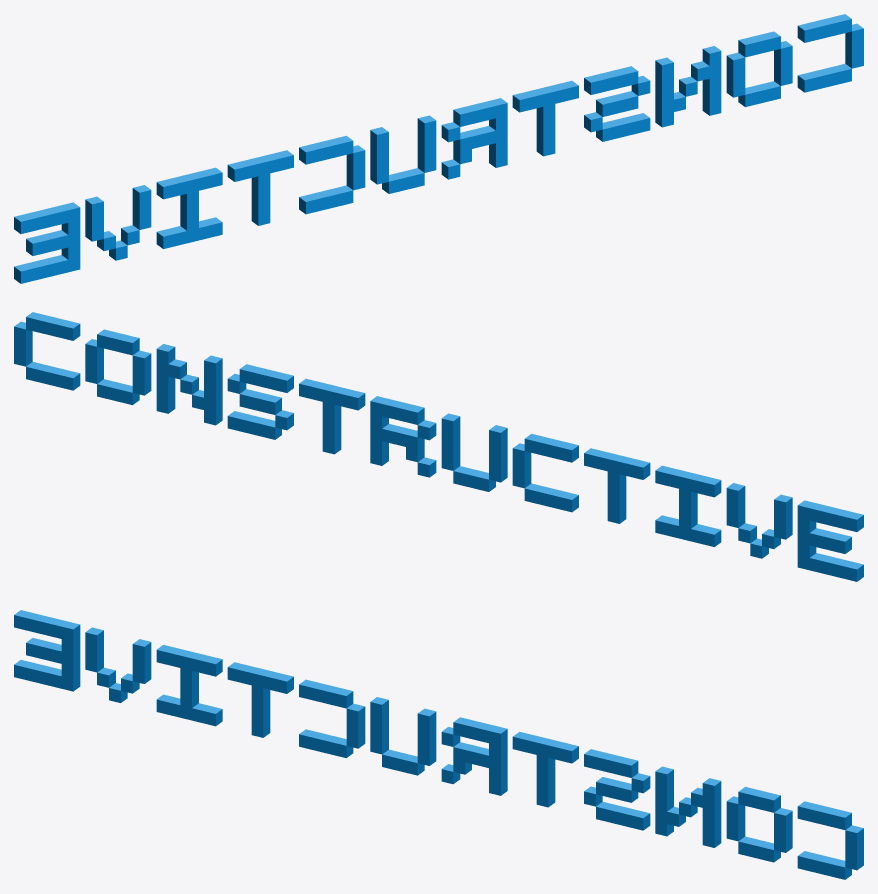
File: constructive-wordmark.obj
3 views of the same model, one above another, from view 1: azimuth 30°, elevation 25°; view 2: azimuth 150°, elevation 25°; view 3: azimuth 330°, elevation 25° (orthographic).
Parts seen in each view (by area): view 1: constructive-wordmark; view 2: constructive-wordmark; view 3: constructive-wordmark.
Boxes of the visible parts, left/top/right/bottom form: constructive-wordmark: left=14, top=14, right=863, bottom=283; constructive-wordmark: left=14, top=312, right=863, bottom=581; constructive-wordmark: left=14, top=610, right=863, bottom=879.
Size of the model in its own units: 71 by 5 by 1.
